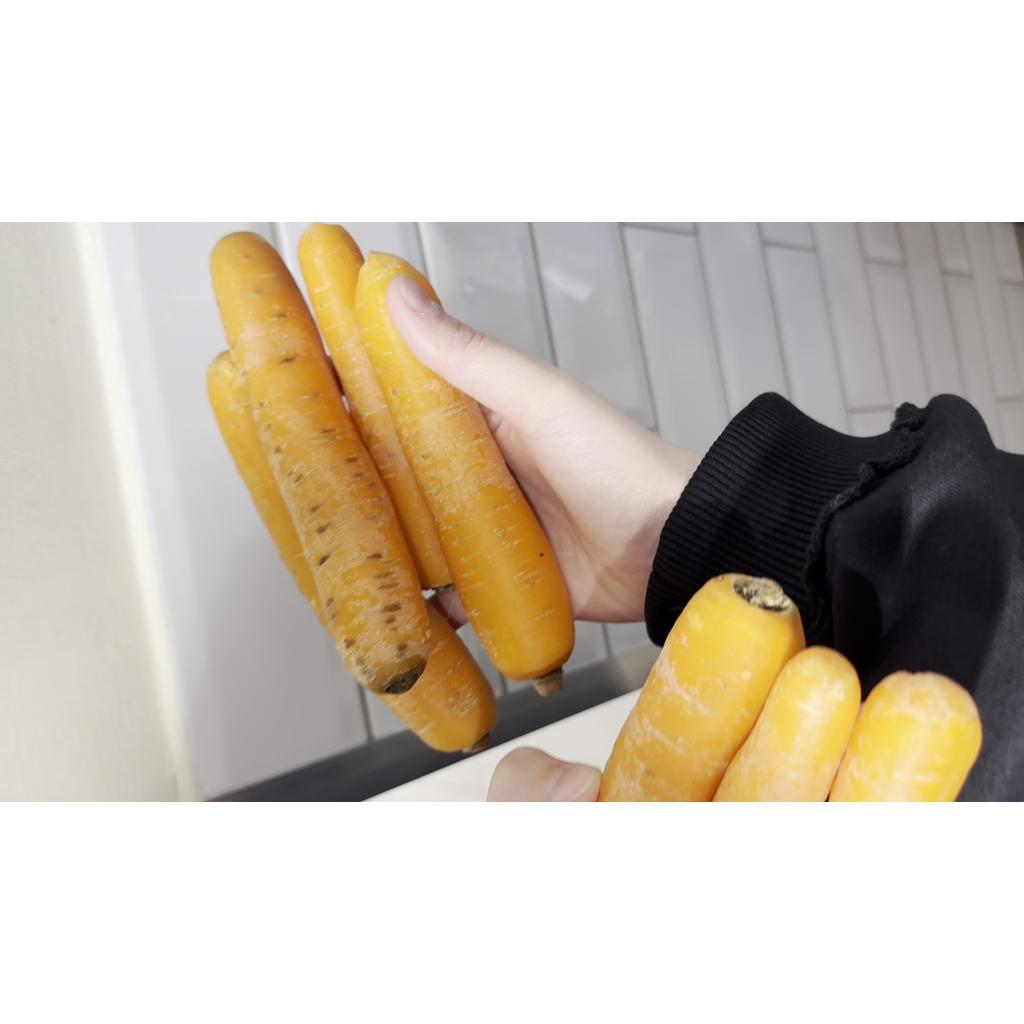carrot: (204, 350, 495, 755), (210, 232, 430, 694), (356, 252, 574, 680), (298, 224, 452, 590), (600, 574, 806, 800), (714, 646, 860, 801), (828, 670, 982, 802)
